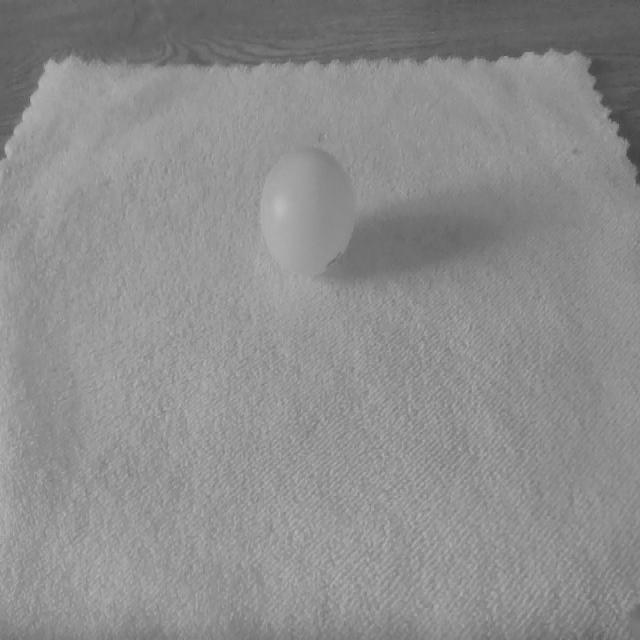ping-pong-ball: (262, 153, 353, 276)
